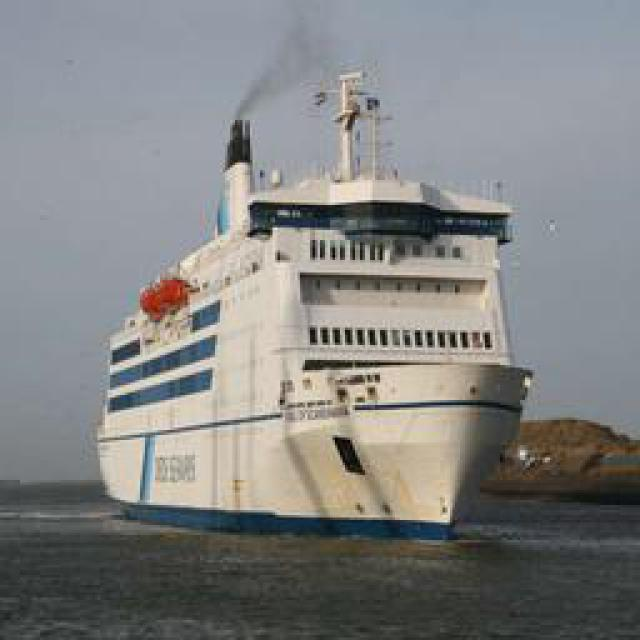Ship: (100, 21, 540, 544)
